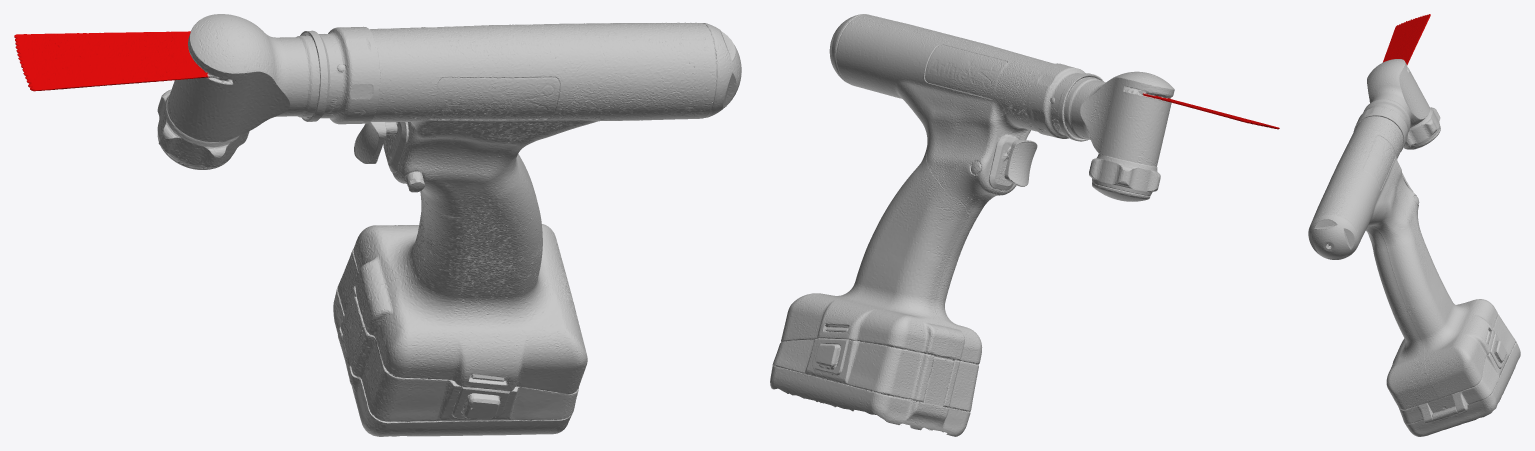
The model's file is taxonomy_22_fine_structure.glb.
3 renders of one model, left to right at view 1: azimuth 30°, elevation 25°; view 2: azimuth 150°, elevation 25°; view 3: azimuth 270°, elevation 25°, orthographic. The views are drawn at different scales.
Parts seen in each view (by area): view 1: world; view 2: world; view 3: world.
Part boxes in pixels (bbox=[...]): world: bbox=[14, 14, 741, 436]; world: bbox=[770, 14, 1279, 436]; world: bbox=[1308, 14, 1520, 436].
Bounding box in the file's own units: 284 × 217 × 148.
